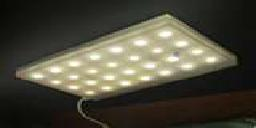LED: (31, 28, 225, 101)
